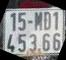-: (28, 20, 34, 24)
.: (38, 47, 41, 52)
1: (10, 13, 17, 32), (53, 11, 60, 30)
3: (29, 34, 38, 53)
4: (7, 33, 16, 52)
5: (17, 12, 27, 31), (18, 33, 27, 53)
6: (42, 33, 51, 51), (53, 33, 61, 51)
D: (43, 12, 52, 31)
M: (34, 11, 43, 32)
